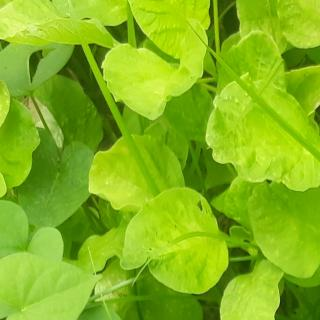karat_putih: (278, 0, 320, 51)
virus_keriting: (203, 79, 309, 196), (120, 202, 226, 295)
